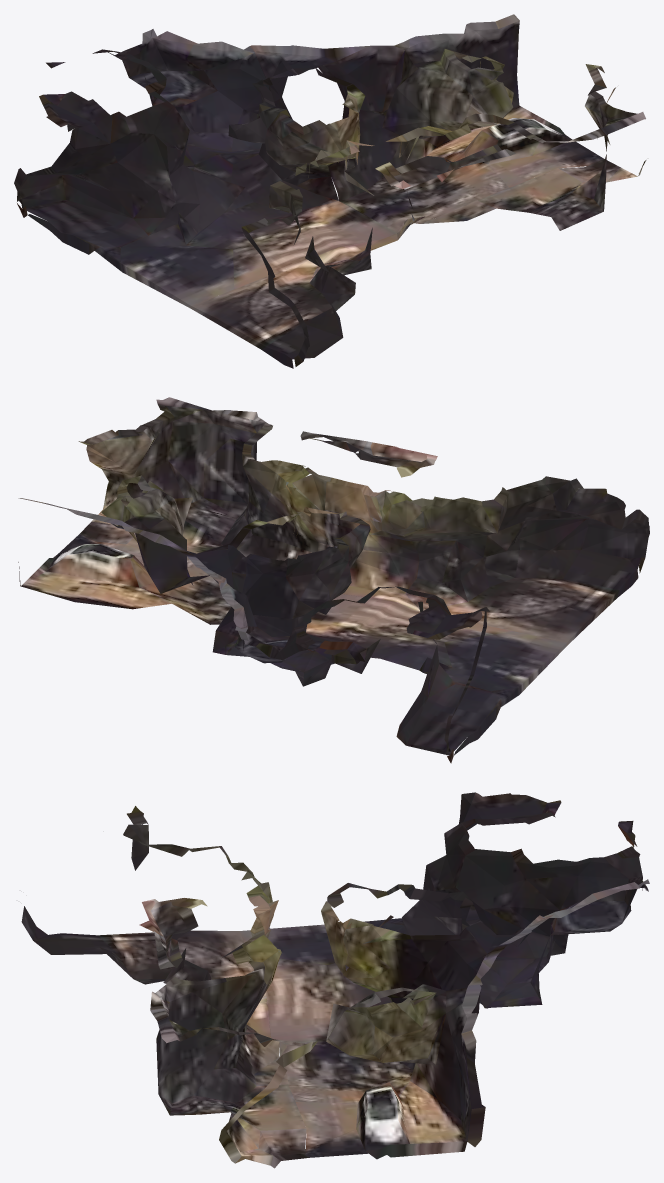
3 views of the same model, one above another, from view 1: azimuth 30°, elevation 25°; view 2: azimuth 150°, elevation 25°; view 3: azimuth 270°, elevation 25° (orthographic). The views are drawn at different scales.
Parts seen in each view (by area): view 1: Mesh_0; view 2: Mesh_0; view 3: Mesh_0.
Part boxes in pixels (box(x1,y1,x2,y2)): Mesh_0: box(14, 14, 646, 368); Mesh_0: box(18, 397, 649, 763); Mesh_0: box(21, 792, 649, 1168).
Size of the model in its own units: 31.36 by 8 by 31.74.
Materials: 1 (1 with a texture image).
